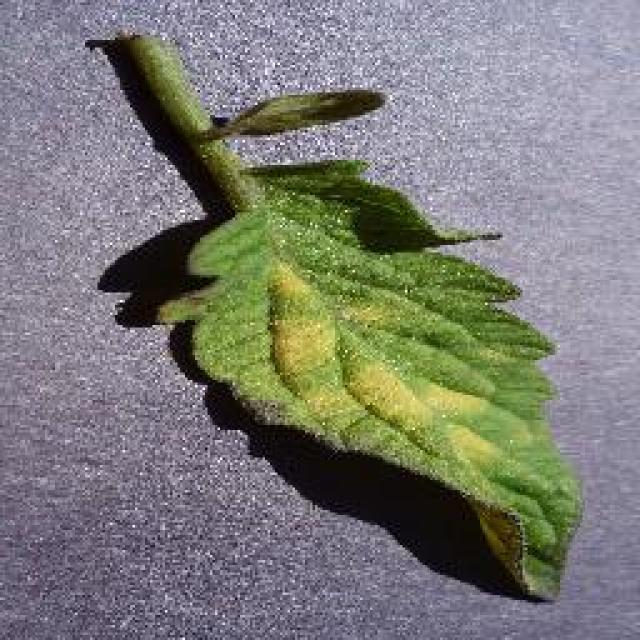Tomato___Leaf_Mold: (118, 35, 580, 595)
